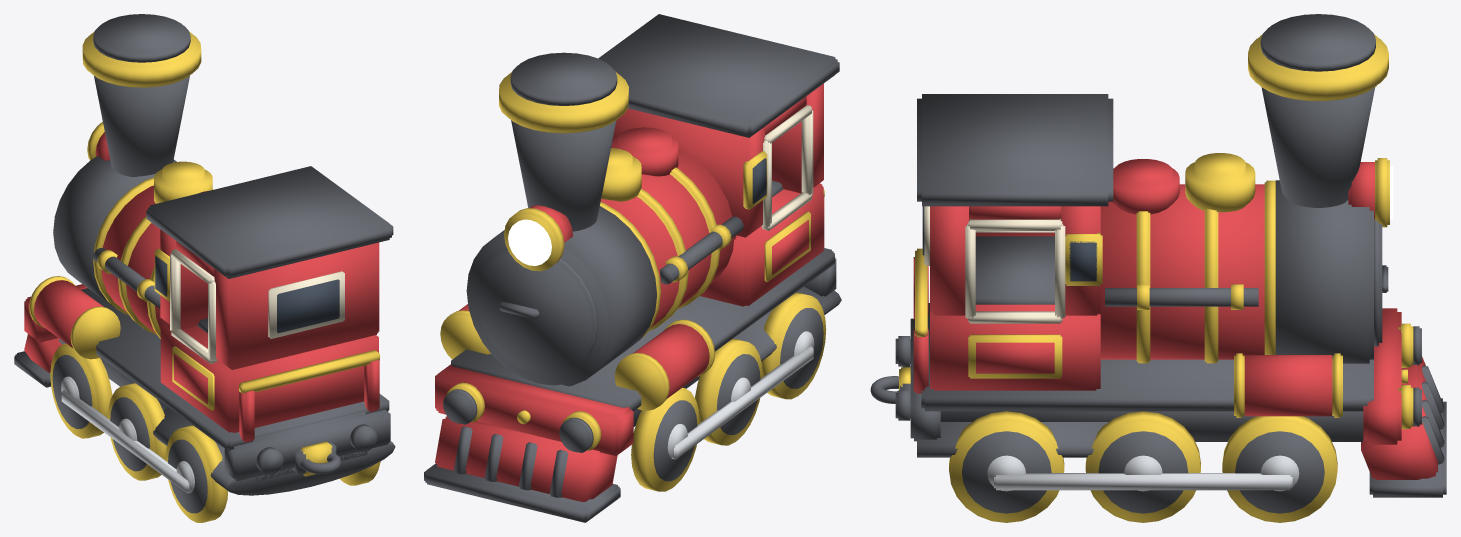
Rendered from train-track-mania-hero-train-heavy-v1.glb.
3 renders of one model, left to right at view 1: azimuth 30°, elevation 25°; view 2: azimuth 150°, elevation 25°; view 3: azimuth 270°, elevation 25°, orthographic. The views are drawn at different scales.
Parts seen in each view (by area): view 1: CabRoofBase, CabRearWall, CabLower, FunnelStack, RunningBoard, Smokebox, RearBufferBeam, FunnelTopCap, CabRoofArch, Boiler, FunnelRimGold, CabWindowRearGlass (+33 smaller); view 2: CabRoofBase, Smokebox, SmokeboxDoor, RunningBoard, Boiler, FunnelStack, FrontBufferBeam, CowcatcherSlope, CabFrontWall, CabLower, FunnelTopCap, FunnelRimGold (+38 smaller); view 3: CabRoofBase, Boiler, Smokebox, RunningBoard, FunnelStack, CabLower, CabInterior, SteamCyl_1, FunnelTopCap, DriveRod_1, FunnelRimGold, ChassisSpine (+37 smaller).
Part boxes in pixels (x1,y1,x2,y2): CabRoofBase: (146, 166, 393, 278); CabRearWall: (214, 242, 379, 369); CabLower: (160, 320, 378, 432); FunnelStack: (94, 76, 189, 177); RunningBoard: (81, 288, 389, 451); Smokebox: (53, 156, 176, 310); RearBufferBeam: (224, 409, 390, 481); FunnelTopCap: (93, 14, 190, 62); CabRoofArch: (153, 407, 395, 495); Boiler: (101, 185, 163, 333); FunnelRimGold: (82, 31, 201, 87); CabWindowRearGlass: (277, 279, 339, 333); CabRoofBase: (598, 14, 839, 137); Smokebox: (466, 206, 656, 386); SmokeboxDoor: (476, 249, 597, 376); RunningBoard: (451, 248, 834, 410); Boiler: (600, 149, 736, 327); FunnelStack: (511, 120, 616, 231); FrontBufferBeam: (435, 364, 633, 455); CowcatcherSlope: (435, 416, 617, 501); CabFrontWall: (612, 108, 764, 237); CabLower: (700, 183, 823, 306); FunnelTopCap: (510, 52, 617, 105); FunnelRimGold: (499, 72, 628, 133); CabRoofBase: (917, 94, 1113, 206); Boiler: (1097, 184, 1264, 359); Smokebox: (1275, 180, 1373, 363); RunningBoard: (921, 303, 1373, 411); FunnelStack: (1261, 87, 1375, 207); CabLower: (930, 232, 1100, 390); CabInterior: (975, 236, 1054, 304); SteamCyl_1: (1244, 355, 1332, 416); FunnelTopCap: (1260, 14, 1375, 71); DriveRod_1: (994, 473, 1292, 490); FunnelRimGold: (1248, 35, 1388, 100); ChassisSpine: (940, 411, 1363, 441).
Bounding box in the file's own units: 0.662 × 1.13 × 1.35.
